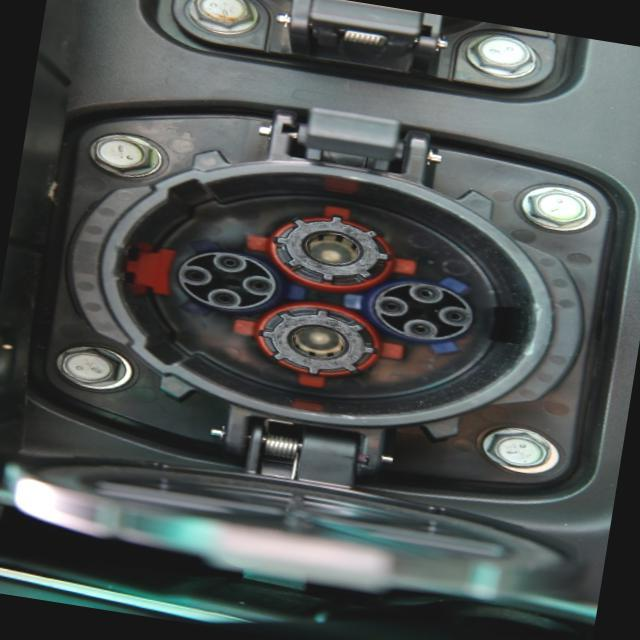CHAdeMO: (118, 183, 540, 406)
